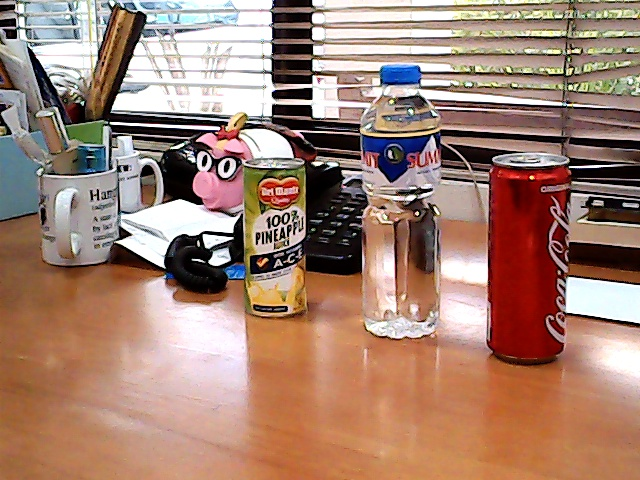Cola: (471, 146, 594, 371)
Pine Juice: (235, 152, 323, 325)
Summit Water: (356, 58, 458, 353)
